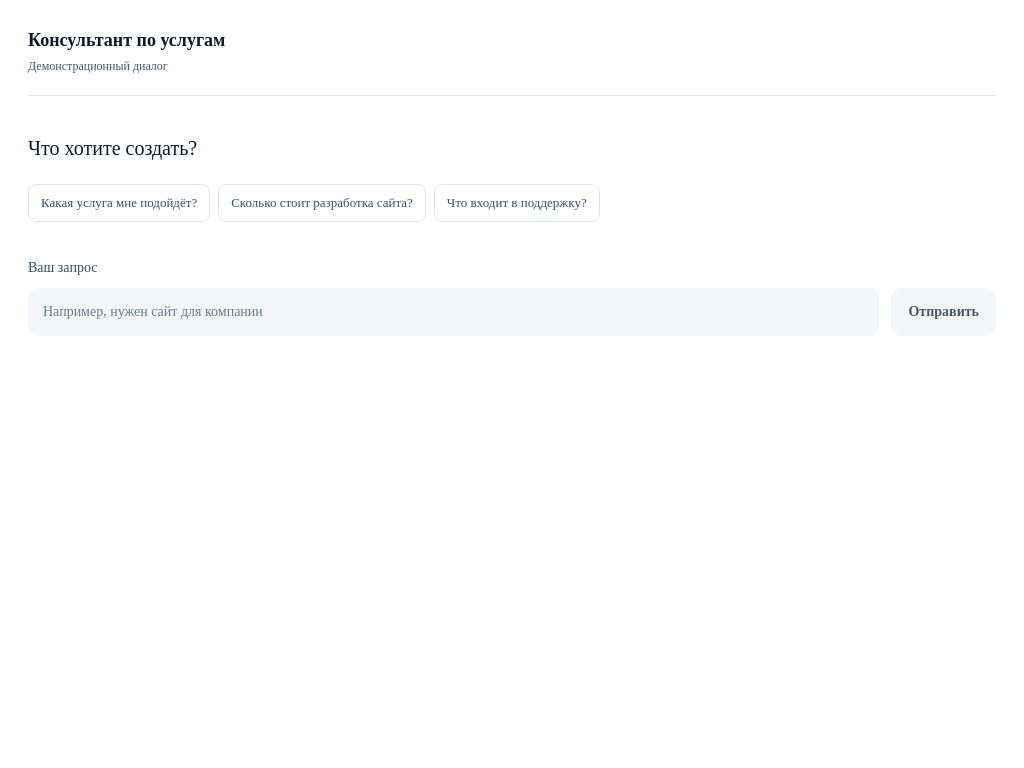
Test: retries a failed message without duplicating history
The width and height of the screenshot is (1024, 768).
Expected: the button "Отправить" is disabled, left=892, top=288, right=996, bottom=336
Type "Нужна CRM" into the field labelled "Ваш запрос" at (454, 312), box left=28, top=288, right=880, bottom=336
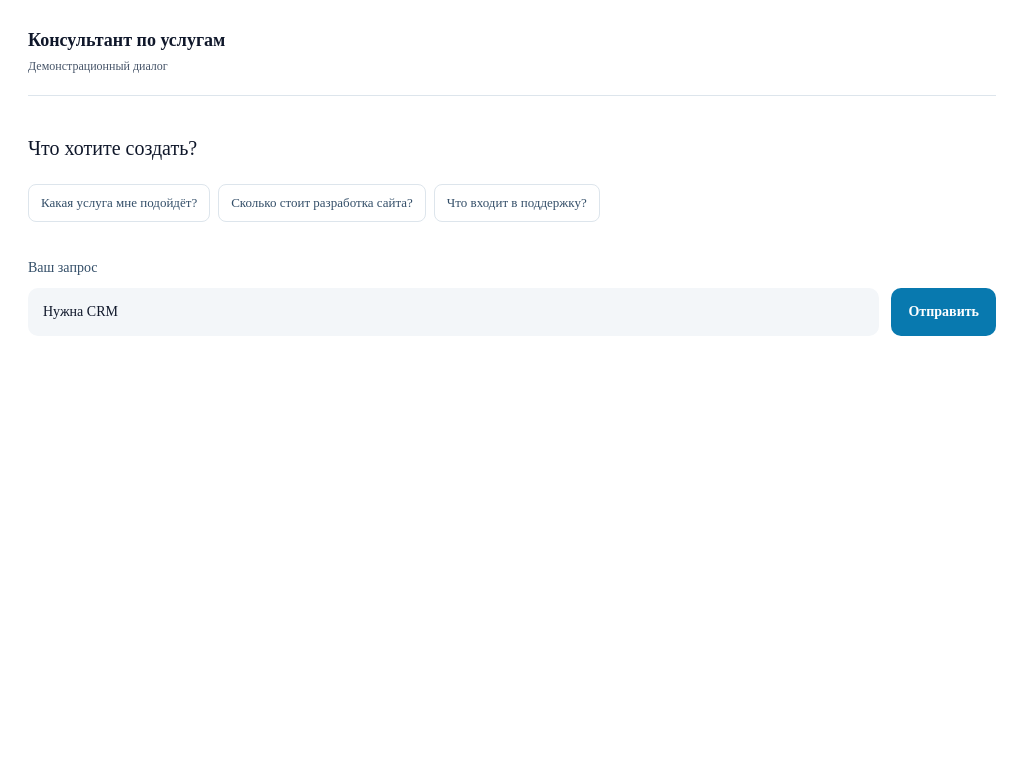
Submit the form, box left=28, top=258, right=996, bottom=336
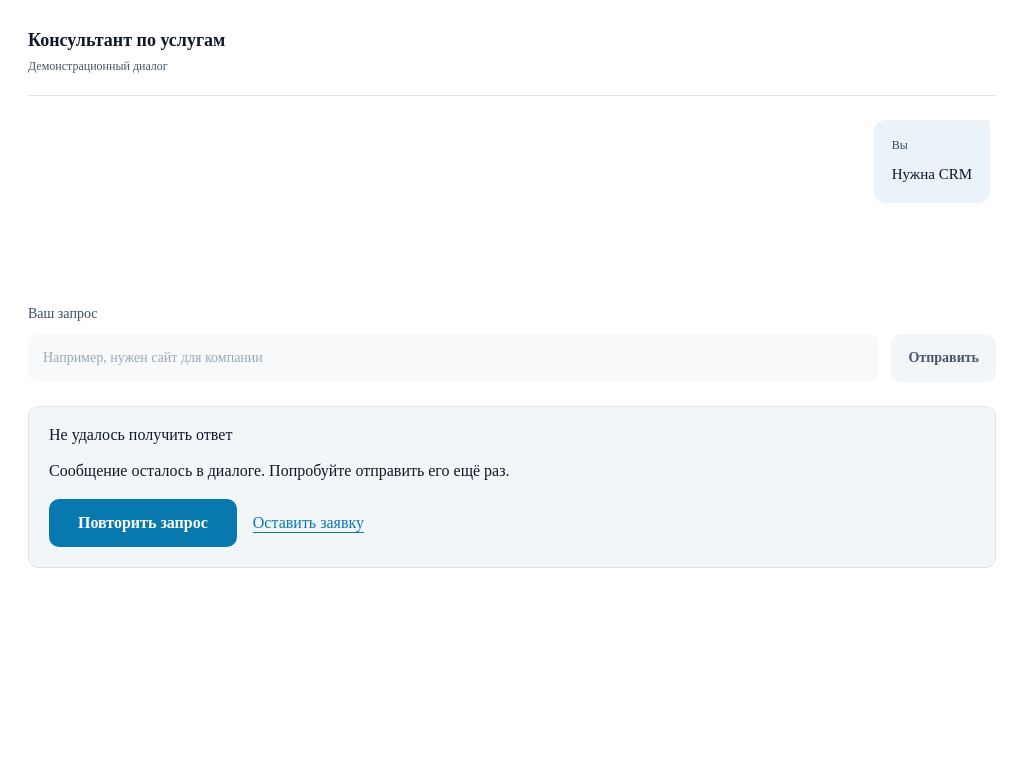
Result: the message is shown at left=28, top=406, right=996, bottom=568
Click the button "Повторить запрос" at (143, 523), box left=49, top=499, right=237, bottom=547
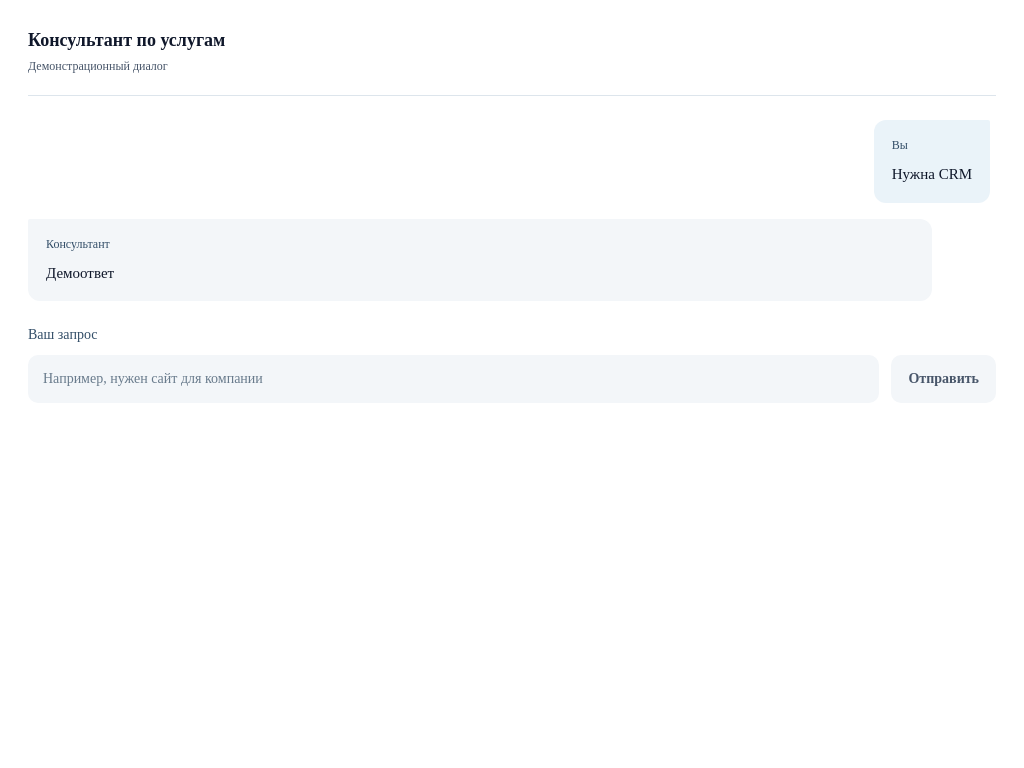
Expected: the text "Нужна CRM" is shown once, left=892, top=162, right=972, bottom=187
Result: the text "Демоответ" is shown at left=46, top=264, right=114, bottom=280
Result: the field labelled "Ваш запрос" is enabled at left=28, top=355, right=880, bottom=403
